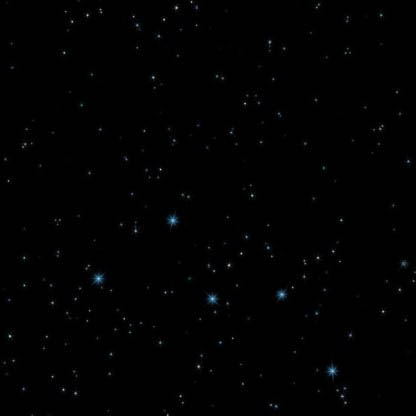Cassiopeia: (271, 279, 299, 311), (87, 267, 115, 296), (322, 356, 348, 386), (201, 285, 221, 312), (162, 208, 184, 231)
